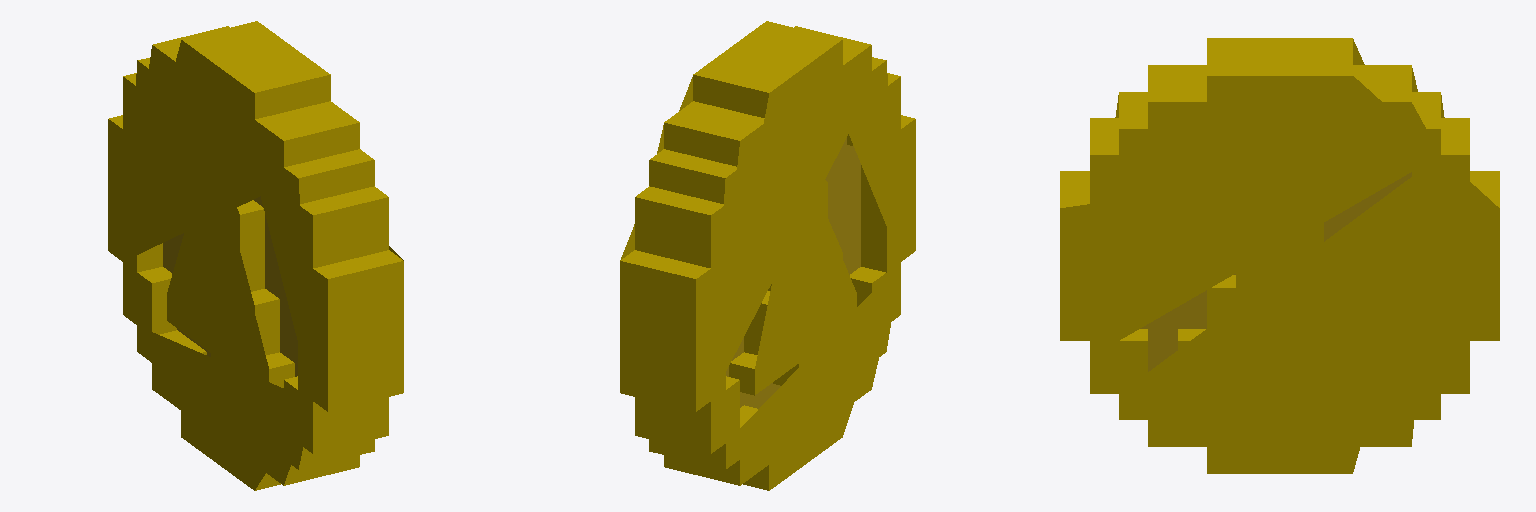
3 views of the same model, side by side, from view 1: azimuth 30°, elevation 25°; view 2: azimuth 150°, elevation 25°; view 3: azimuth 270°, elevation 25° (orthographic).
Parts seen in each view (by area): view 1: coin; view 2: coin; view 3: coin.
Boxes of the visible parts, <box> form: coin: <box>108,21,403,490</box>; coin: <box>620,21,915,490</box>; coin: <box>1060,38,1499,473</box>.
Size of the model in its own units: 0.3 by 1.5 by 1.5.
1 materials, 1 textured.